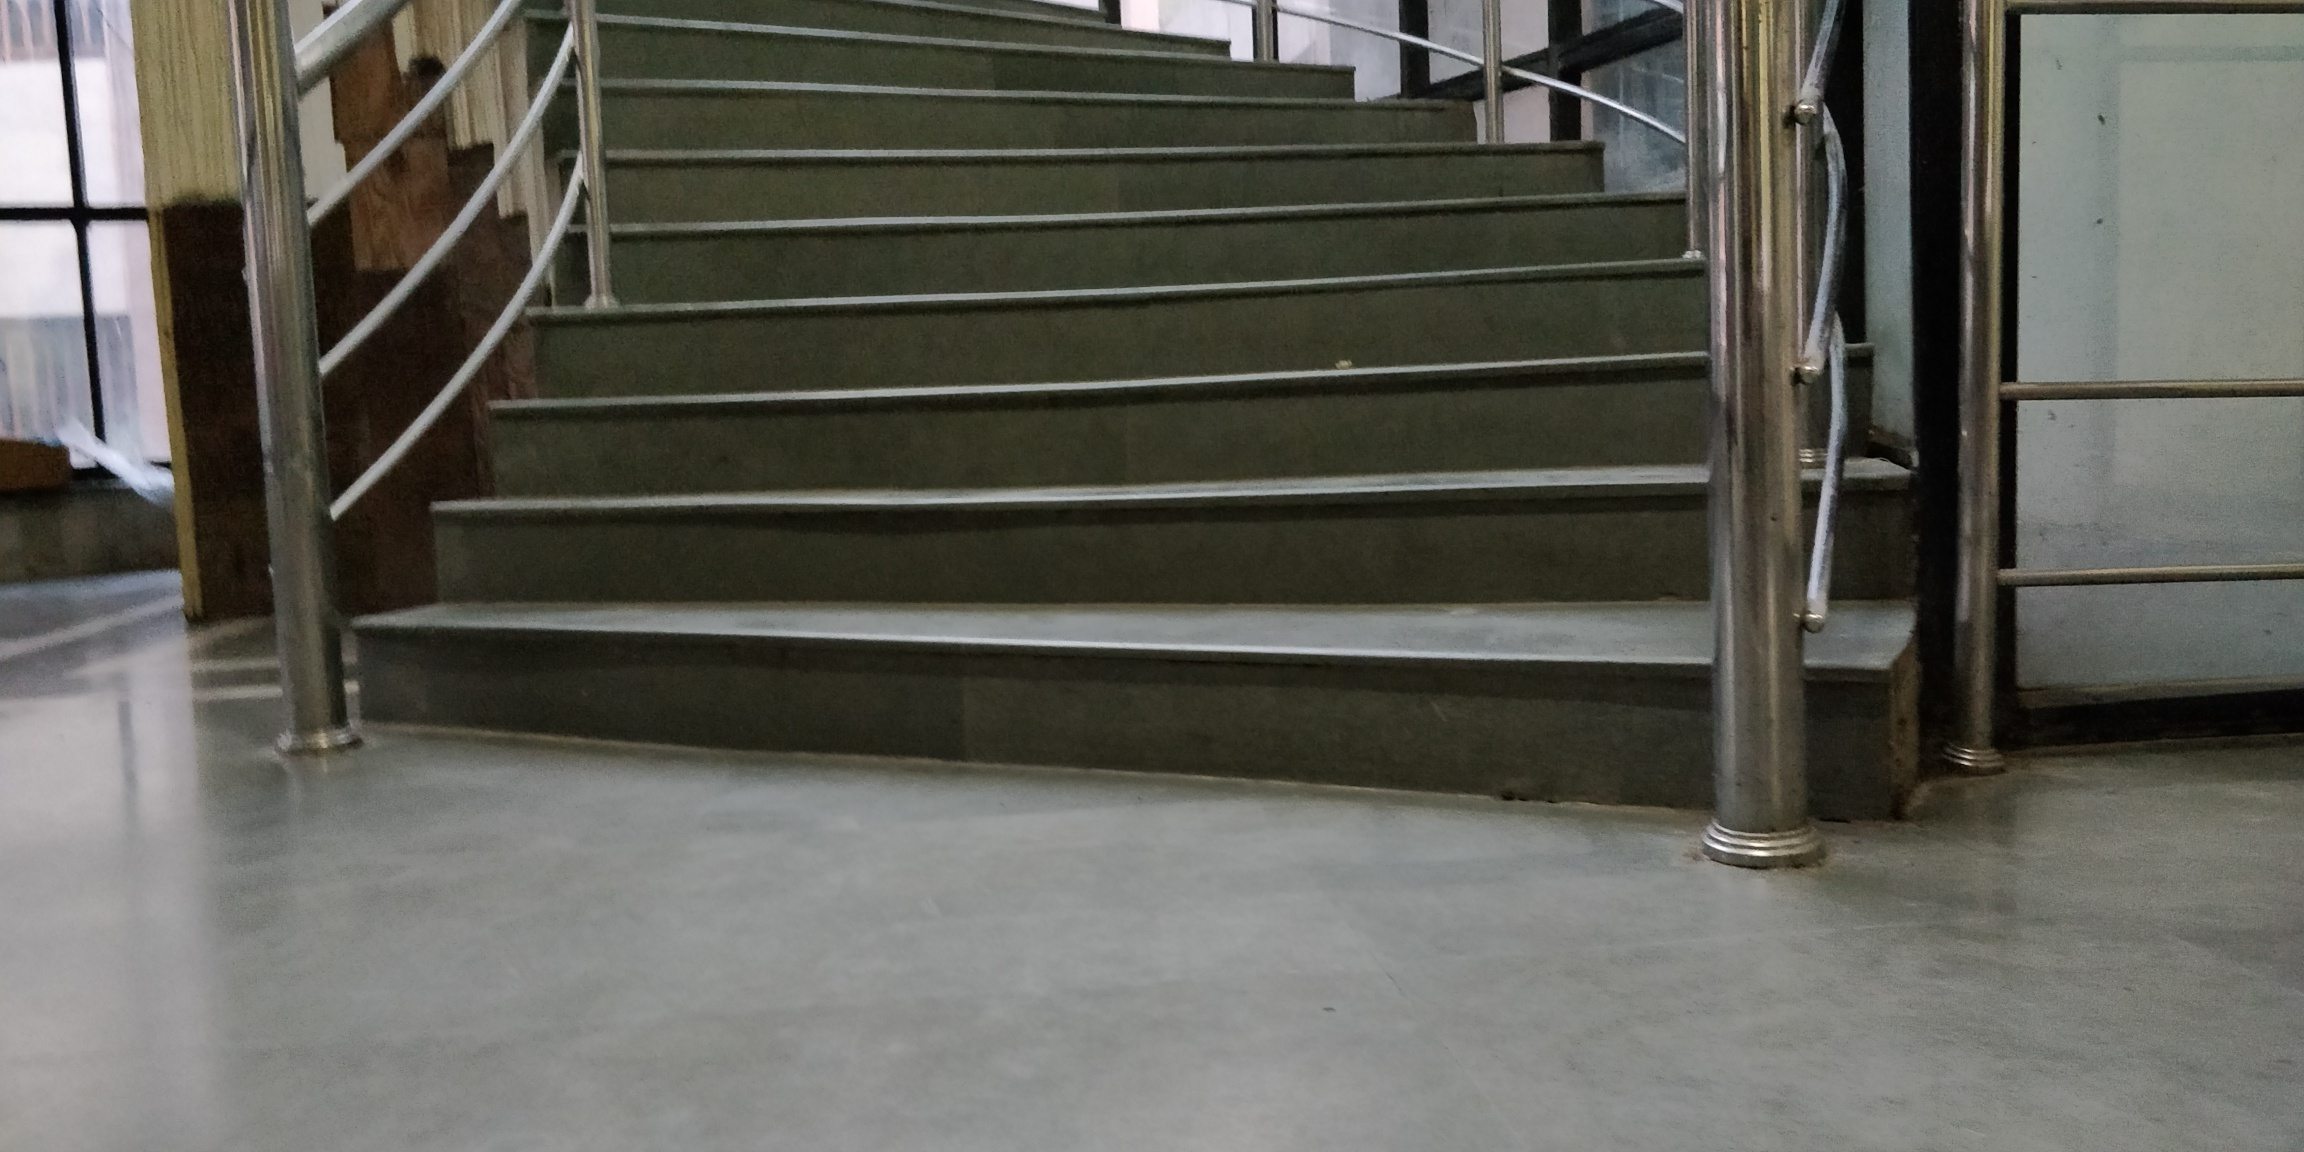stairs_up: (423, 40, 1987, 824)
